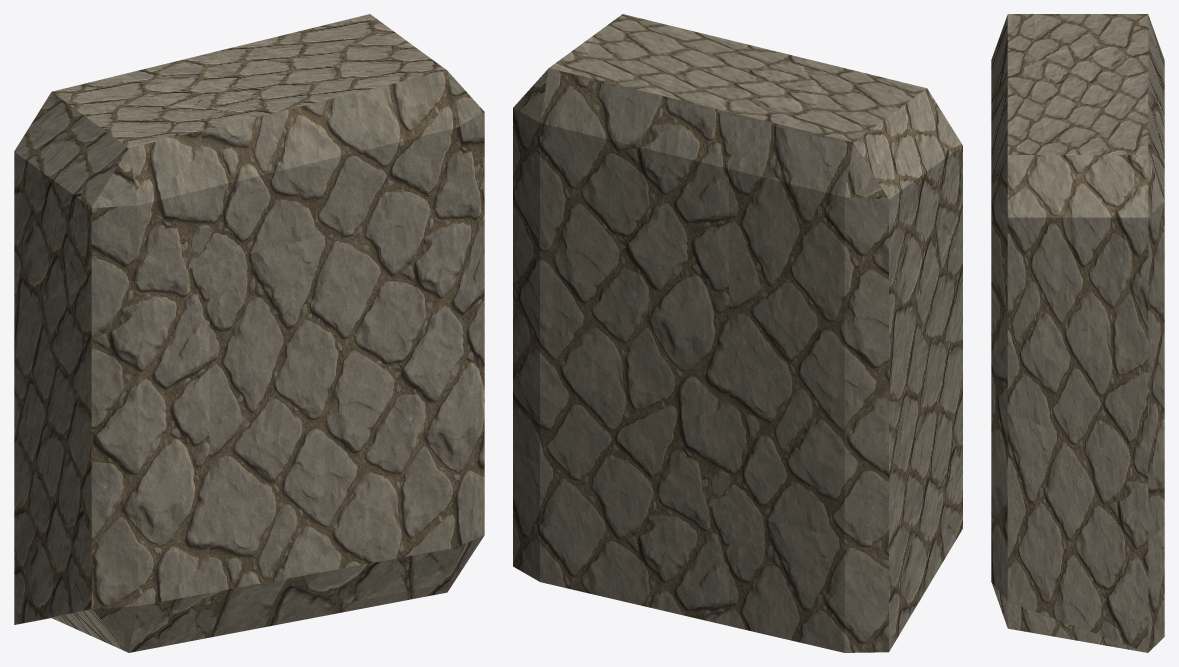
The model's file is cliff-a.glb.
The picture shows the model from 3 angles, left to right: view 1: azimuth 30°, elevation 25°; view 2: azimuth 150°, elevation 25°; view 3: azimuth 270°, elevation 25°; orthographic projection. The views are drawn at different scales.
Parts seen in each view (by area): view 1: T_Rock-cliff-2_N; view 2: T_Rock-cliff-2_N; view 3: T_Rock-cliff-2_N.
Part boxes in pixels (x1,y1,x2,y2): T_Rock-cliff-2_N: [14, 14, 484, 652]; T_Rock-cliff-2_N: [513, 14, 962, 652]; T_Rock-cliff-2_N: [991, 14, 1164, 652].
Size of what is drawn, in the model's own units: 4.76 by 6.15 by 2.
Materials: 1 (1 with a texture image).
